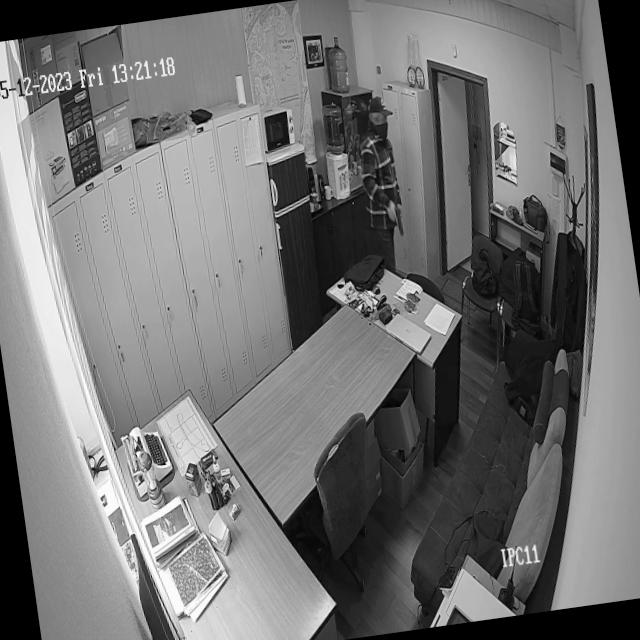gun: (394, 199, 409, 244)
person with a gun: (349, 90, 416, 274)
